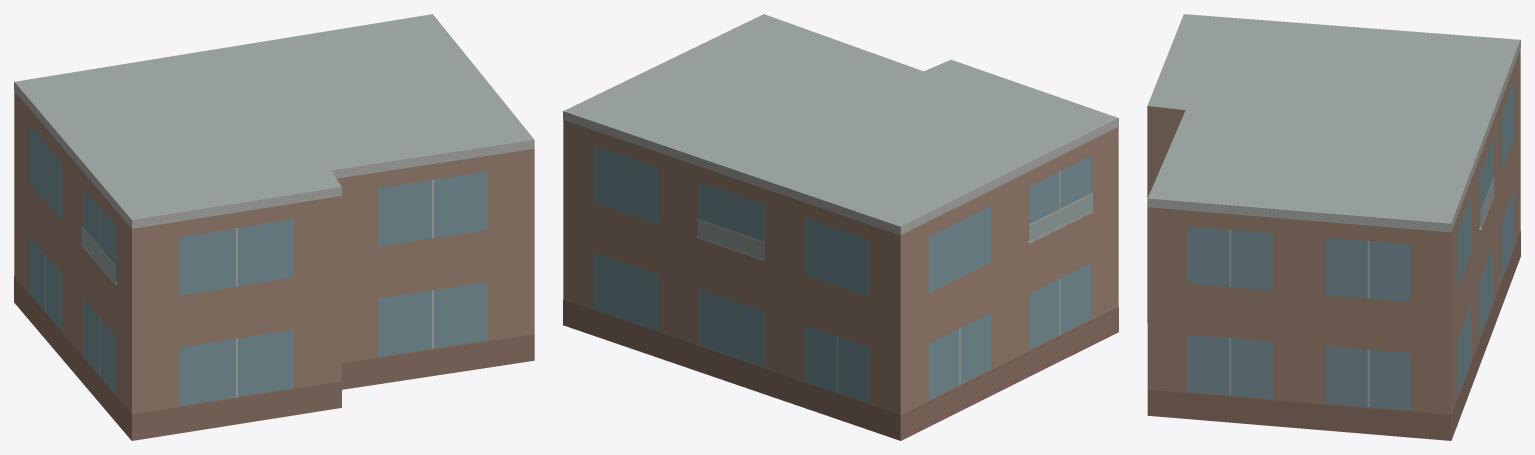
File: survey-upis-32655244.glb
3 views of the same model, side by side, from view 1: azimuth 30°, elevation 25°; view 2: azimuth 150°, elevation 25°; view 3: azimuth 270°, elevation 25° (orthographic). The views are drawn at different scales.
Visible parts, largest first — view 1: survey-upis-32655244.tmp; view 2: survey-upis-32655244.tmp; view 3: survey-upis-32655244.tmp.
Part boxes in pixels (x1,y1,x2,y2): survey-upis-32655244.tmp: (14, 14, 534, 440); survey-upis-32655244.tmp: (563, 14, 1118, 440); survey-upis-32655244.tmp: (1147, 14, 1520, 440).
Bounding box in the file's own units: 12.65 × 6.1 × 9.52.
